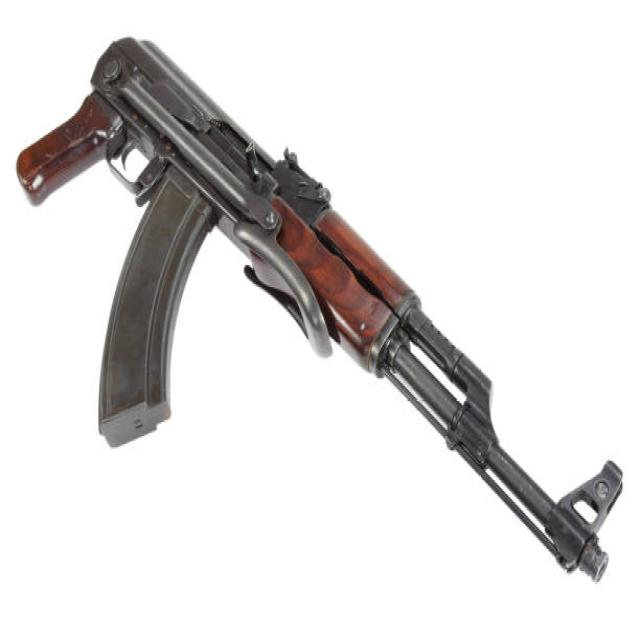rifle: (15, 27, 633, 594)
